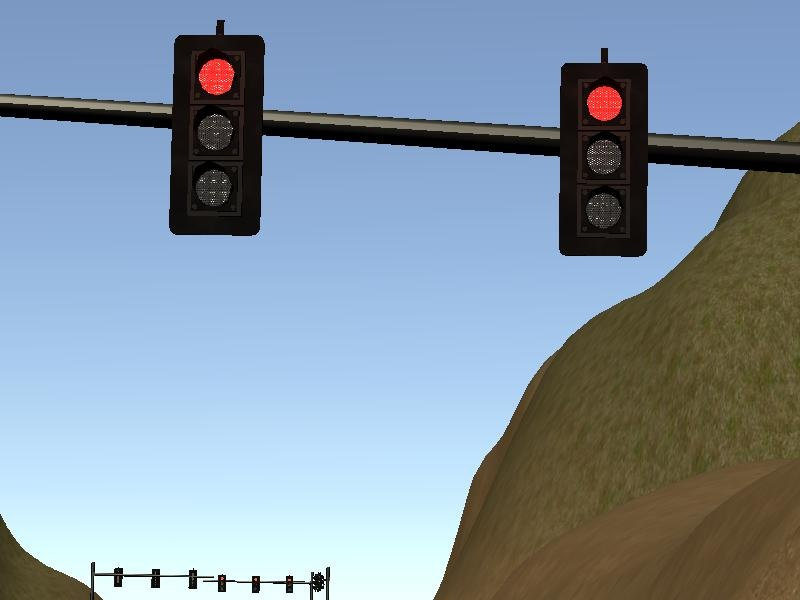red: (552, 53, 657, 264), (167, 30, 267, 244)
